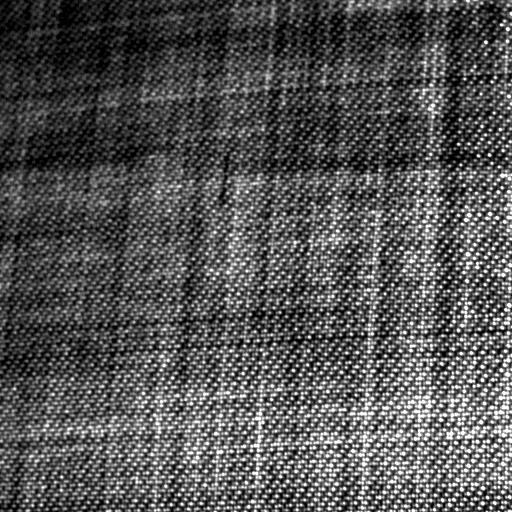fabric_perfect: (0, 4, 508, 511)
